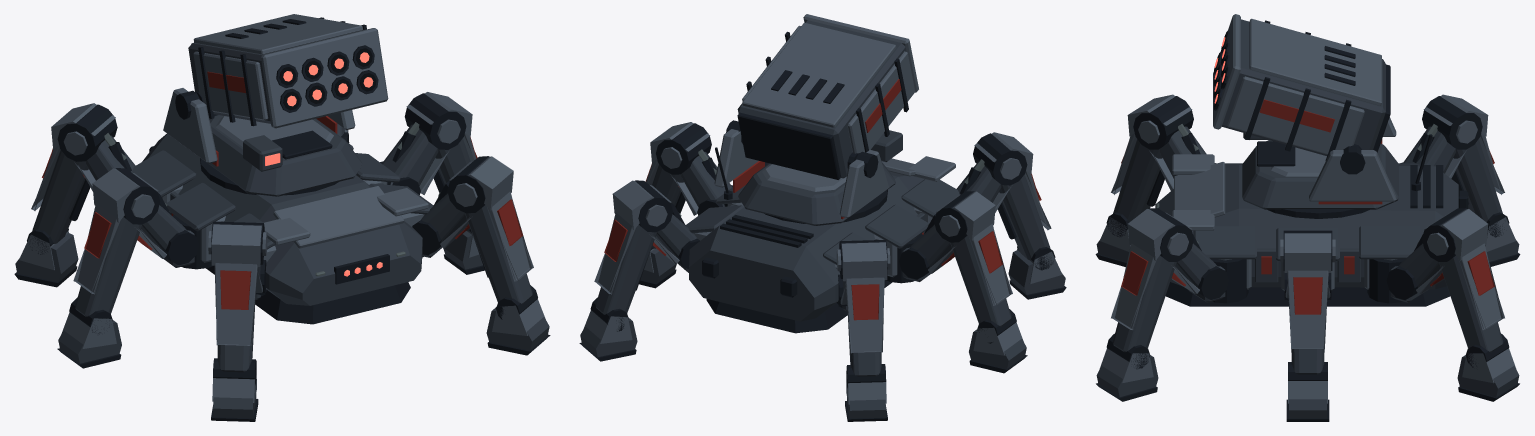
Rendered from m_siege.glb.
3 views of the same model, side by side, from view 1: azimuth 30°, elevation 25°; view 2: azimuth 150°, elevation 25°; view 3: azimuth 270°, elevation 25° (orthographic). The views are drawn at different scales.
Parts seen in each view (by area): view 1: Hull, Rocket launcher, Launcher mount, Leg shin.003, Leg shin.001, Leg shin, Leg shin.004, Leg shin.002, Leg hoof.003, Leg femur.002, Leg hoof.001, Leg hoof.004 (+6 smaller); view 2: Hull, Rocket launcher, Launcher mount, Leg shin.003, Leg shin.005, Leg shin.004, Leg shin, Leg shin.002, Leg hoof.003, Leg hoof.005, Leg hoof, Leg femur.002 (+6 smaller); view 3: Hull, Rocket launcher, Launcher mount, Leg shin.001, Leg shin.005, Leg shin.002, Leg shin, Leg shin.004, Leg hoof.001, Leg hoof.005, Leg femur.001, Leg femur.005 (+7 smaller).
Part boxes in pixels (x1,y1,x2,y2): Hull: (131,114,433,324); Rocket launcher: (188,14,388,128); Launcher mount: (163,88,362,196); Leg shin.003: (69,168,160,334); Leg shin.001: (447,156,537,319); Leg shin: (208,221,267,385); Leg shin.004: (27,103,117,254); Leg shin.002: (404,92,477,232); Leg hoof.003: (57,312,121,368); Leg femur.002: (380,122,448,194); Leg hoof.001: (486,299,550,355); Leg hoof.004: (14,231,78,287); Hull: (685,156,959,333); Rocket launcher: (737,14,918,179); Launcher mount: (714,120,902,225); Leg shin.003: (934,191,1016,343); Leg shin.005: (590,180,672,331); Leg shin.004: (836,239,890,388); Leg shin: (973,132,1055,270); Leg shin.002: (645,122,711,249); Leg hoof.003: (969,322,1027,373); Leg hoof.005: (579,310,637,361); Leg hoof: (1008,248,1066,299); Leg femur.002: (672,149,732,215); Hull: (1155,154,1468,306); Rocket launcher: (1213,14,1390,160); Launcher mount: (1242,117,1432,209); Leg shin.001: (1106,208,1193,369); Leg shin.005: (1422,208,1509,367); Leg shin.002: (1280,230,1335,380); Leg shin: (1106,94,1193,237); Leg shin.004: (1422,94,1509,237); Leg hoof.001: (1096,348,1158,401); Leg hoof.005: (1457,348,1519,401); Leg femur.001: (1171,234,1229,299); Leg femur.005: (1386,234,1444,299).
Bounding box in the file's own units: 4.48 × 2.95 × 4.01.
